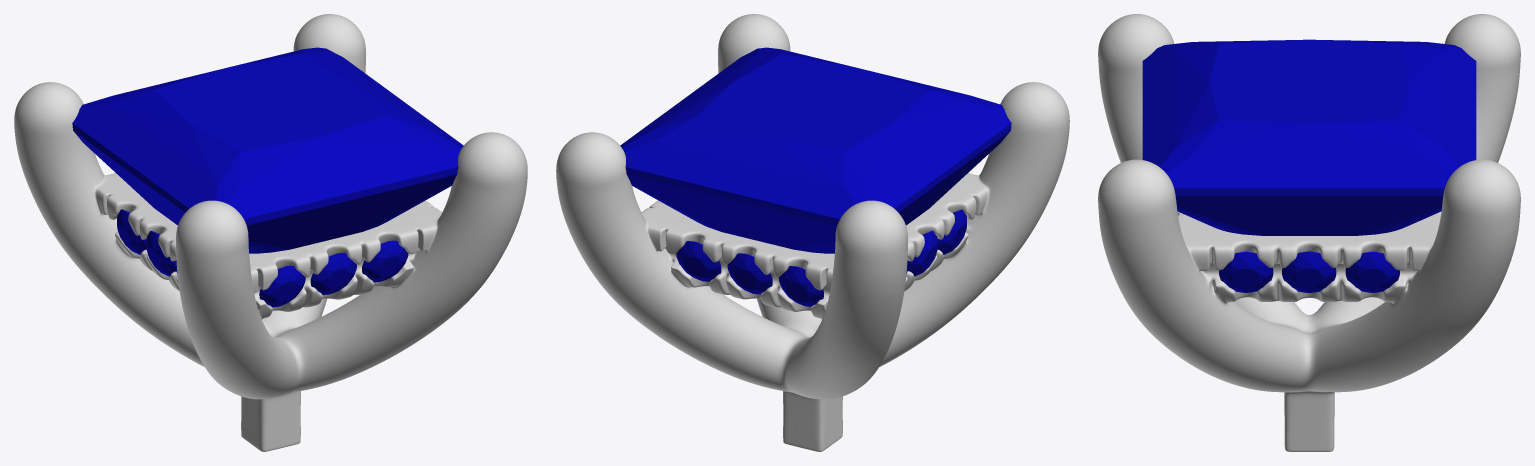
Rendered from Princess.glb.
3 renders of one model, left to right at view 1: azimuth 30°, elevation 25°; view 2: azimuth 150°, elevation 25°; view 3: azimuth 270°, elevation 25°, orthographic. The views are drawn at different scales.
Parts seen in each view (by area): view 1: /GSMOD388300-HIDDEN HALO_PRINCESS_IJ.3dm, Diamond_Princess, Diamond_Round (×5); view 2: /GSMOD388300-HIDDEN HALO_PRINCESS_IJ.3dm, Diamond_Princess, Diamond_Round (×5); view 3: /GSMOD388300-HIDDEN HALO_PRINCESS_IJ.3dm, Diamond_Princess, Diamond_Round (×3).
Part boxes in pixels (<box>): /GSMOD388300-HIDDEN HALO_PRINCESS_IJ.3dm: <box>14,14,527,451</box>; Diamond_Princess: <box>72,47,463,253</box>; Diamond_Round (×5): <box>117,209,408,307</box>; /GSMOD388300-HIDDEN HALO_PRINCESS_IJ.3dm: <box>556,14,1069,451</box>; Diamond_Princess: <box>620,47,1011,253</box>; Diamond_Round (×5): <box>676,209,966,306</box>; /GSMOD388300-HIDDEN HALO_PRINCESS_IJ.3dm: <box>1098,14,1520,451</box>; Diamond_Princess: <box>1142,39,1476,235</box>; Diamond_Round (×3): <box>1219,251,1399,293</box>.
Size of the model in its own units: 8.85 by 8.34 by 8.87.
